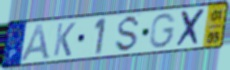1: (93, 17, 108, 57)
A: (19, 23, 52, 63)
G: (148, 12, 177, 50)
K: (52, 21, 78, 58)
S: (113, 14, 143, 54)
X: (175, 7, 208, 49)
